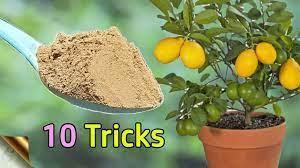lemon: (154, 36, 184, 64), (279, 58, 300, 90), (180, 40, 204, 68), (235, 49, 258, 77), (256, 42, 276, 64)
